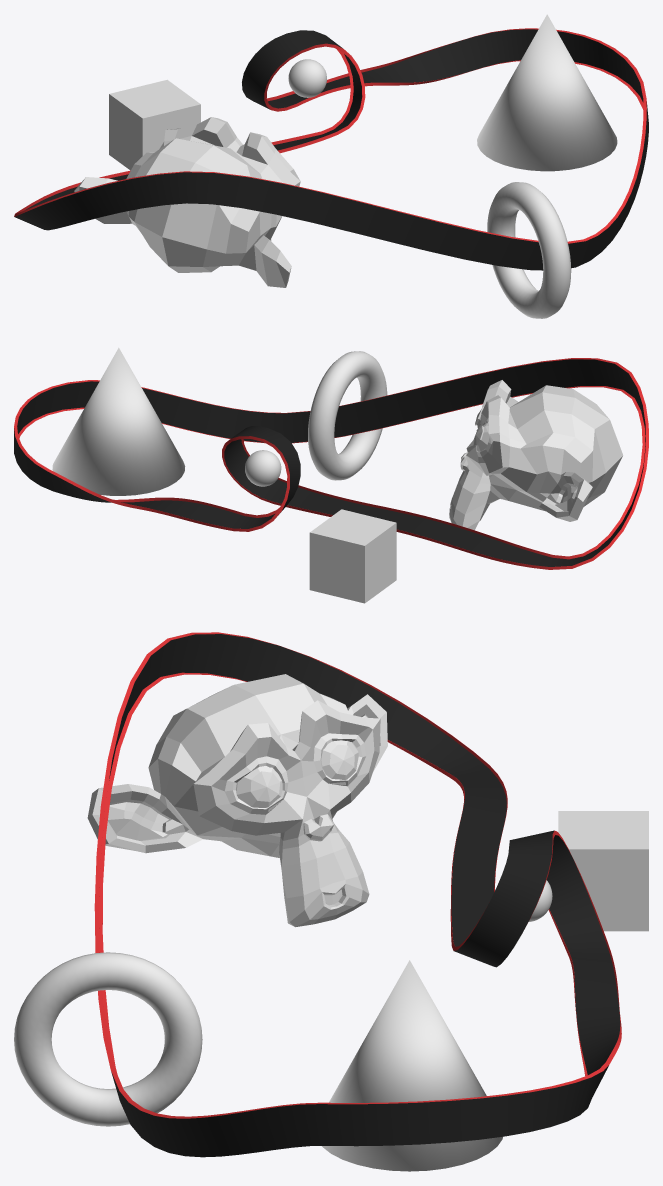
File: SuzanneTrack.fbx
The picture shows the model from 3 angles, top to bottom: view 1: azimuth 30°, elevation 25°; view 2: azimuth 150°, elevation 25°; view 3: azimuth 270°, elevation 25°; orthographic projection. The views are drawn at different scales.
Parts seen in each view (by area): view 1: looping Track, Suzanne, Cone, Torus, Cube, Sphere; view 2: looping Track, Suzanne, Cone, Cube, Torus, Sphere; view 3: looping Track, Suzanne, Torus, Cone, Cube.
Part boxes in pixels (x1=…): looping Track: x1=14, y1=28, x2=648, y2=270; Suzanne: x1=74, y1=117, x2=300, y2=287; Cone: x1=477, y1=14, x2=617, y2=171; Torus: x1=487, y1=182, x2=571, y2=318; Cube: x1=109, y1=79, x2=200, y2=170; Sphere: x1=288, y1=59, x2=326, y2=97; looping Track: x1=14, y1=358, x2=648, y2=569; Suzanne: x1=449, y1=380, x2=623, y2=530; Cone: x1=52, y1=347, x2=185, y2=495; Cube: x1=309, y1=509, x2=396, y2=603; Torus: x1=308, y1=351, x2=387, y2=480; Sphere: x1=245, y1=450, x2=281, y2=486; looping Track: x1=94, y1=632, x2=621, y2=1157; Suzanne: x1=87, y1=674, x2=387, y2=927; Torus: x1=14, y1=952, x2=202, y2=1126; Cone: x1=322, y1=960, x2=502, y2=1171; Cube: x1=558, y1=811, x2=648, y2=931.
Size of the model in its own units: 66.13 by 43.81 by 20.91.
